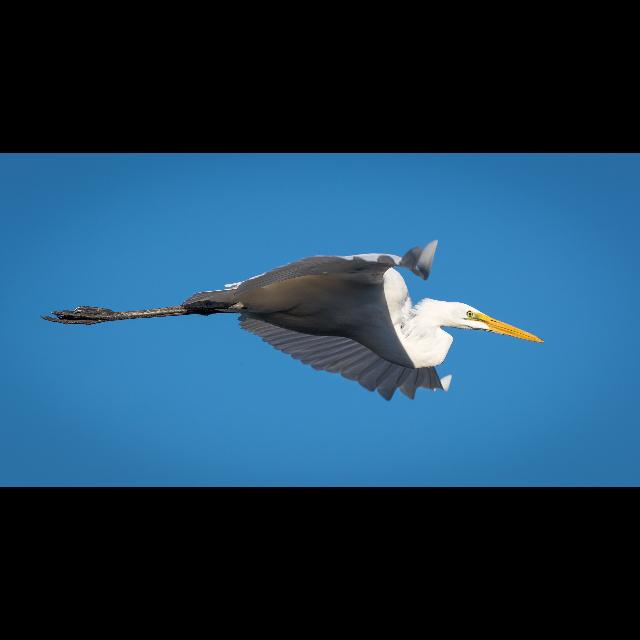egret: (29, 237, 546, 403)
